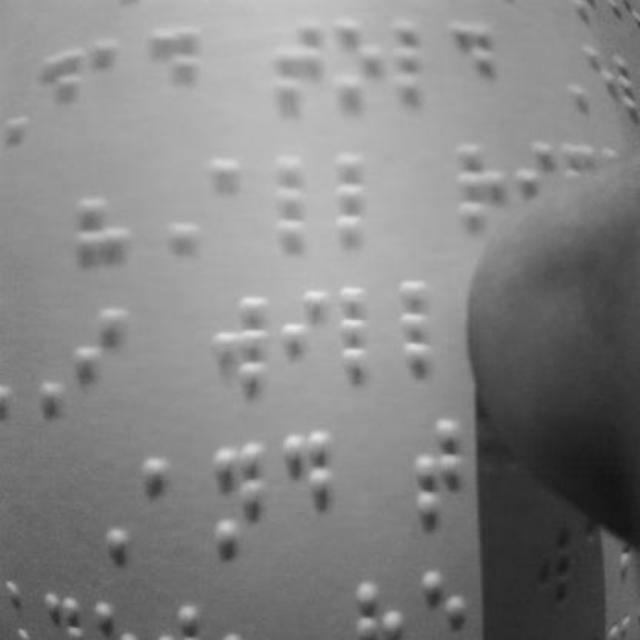braiile: (206, 433, 266, 562), (411, 416, 472, 532), (209, 290, 267, 406), (70, 304, 128, 418), (337, 280, 398, 384), (282, 424, 336, 540), (400, 278, 460, 382), (334, 150, 396, 246), (138, 448, 192, 556), (146, 22, 202, 122), (269, 21, 325, 121), (33, 41, 86, 145), (279, 286, 331, 392), (330, 17, 386, 115), (273, 153, 329, 251), (208, 152, 262, 246), (91, 34, 143, 128), (391, 15, 443, 109), (450, 13, 498, 108)
